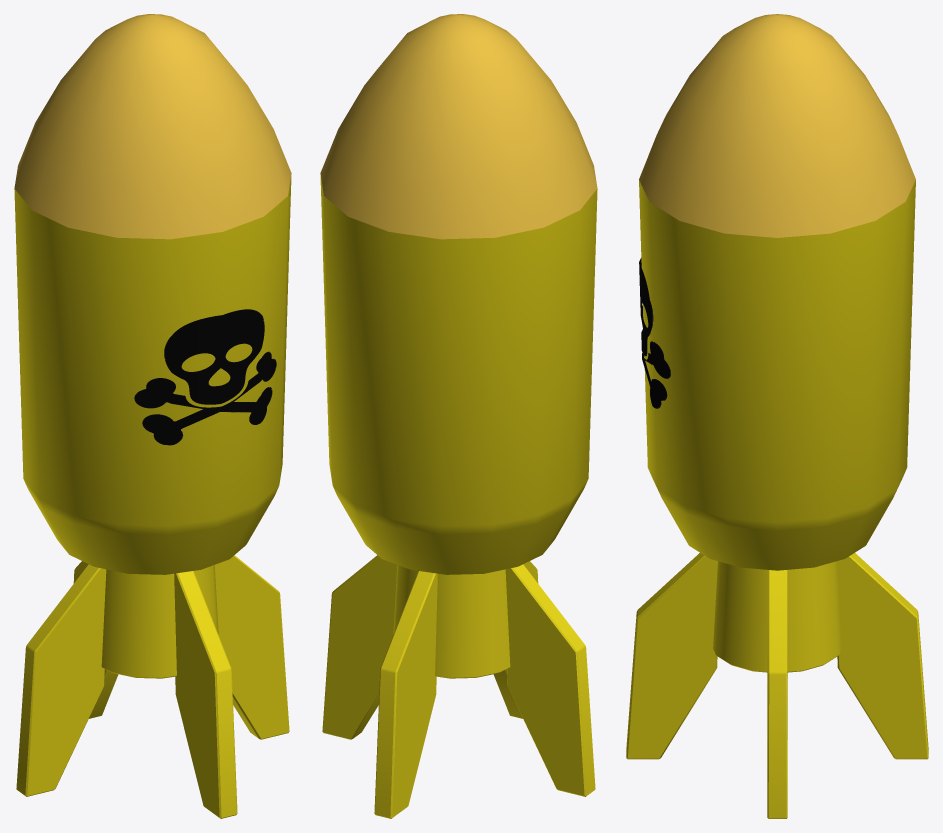
Rendered from Bomb_1.fbx.
3 renders of one model, left to right at view 1: azimuth 30°, elevation 25°; view 2: azimuth 150°, elevation 25°; view 3: azimuth 270°, elevation 25°, orthographic.
Parts seen in each view (by area): view 1: Body_Lv1, Head_Lv1, Motor_Lv1; view 2: Body_Lv1, Head_Lv1, Motor_Lv1; view 3: Body_Lv1, Head_Lv1, Motor_Lv1.
Boxes of the visible parts, bbox=[...] form: Body_Lv1: bbox=[14, 173, 291, 574]; Head_Lv1: bbox=[14, 14, 291, 239]; Motor_Lv1: bbox=[16, 555, 289, 818]; Body_Lv1: bbox=[320, 173, 597, 574]; Head_Lv1: bbox=[320, 14, 597, 239]; Motor_Lv1: bbox=[322, 555, 595, 818]; Body_Lv1: bbox=[639, 180, 915, 570]; Head_Lv1: bbox=[639, 14, 915, 237]; Motor_Lv1: bbox=[626, 553, 928, 818].
Size of the model in its own units: 2.34 by 6.32 by 2.34.
